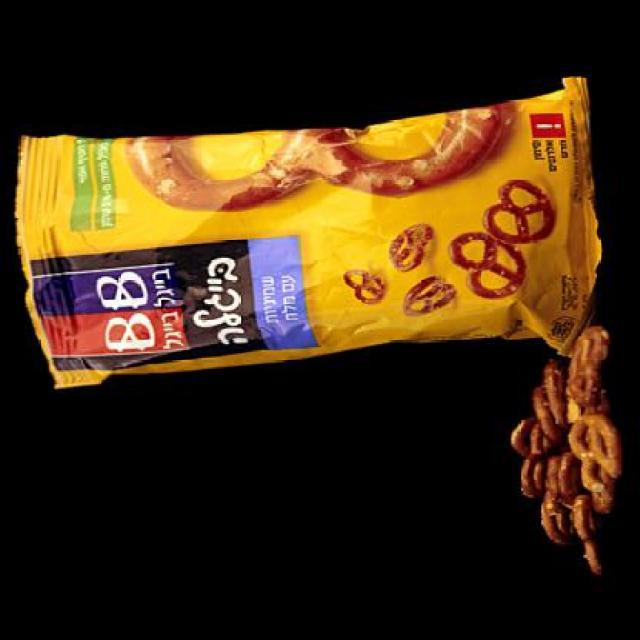Coke: (502, 326, 620, 582)
Salatini: (35, 76, 597, 372)
